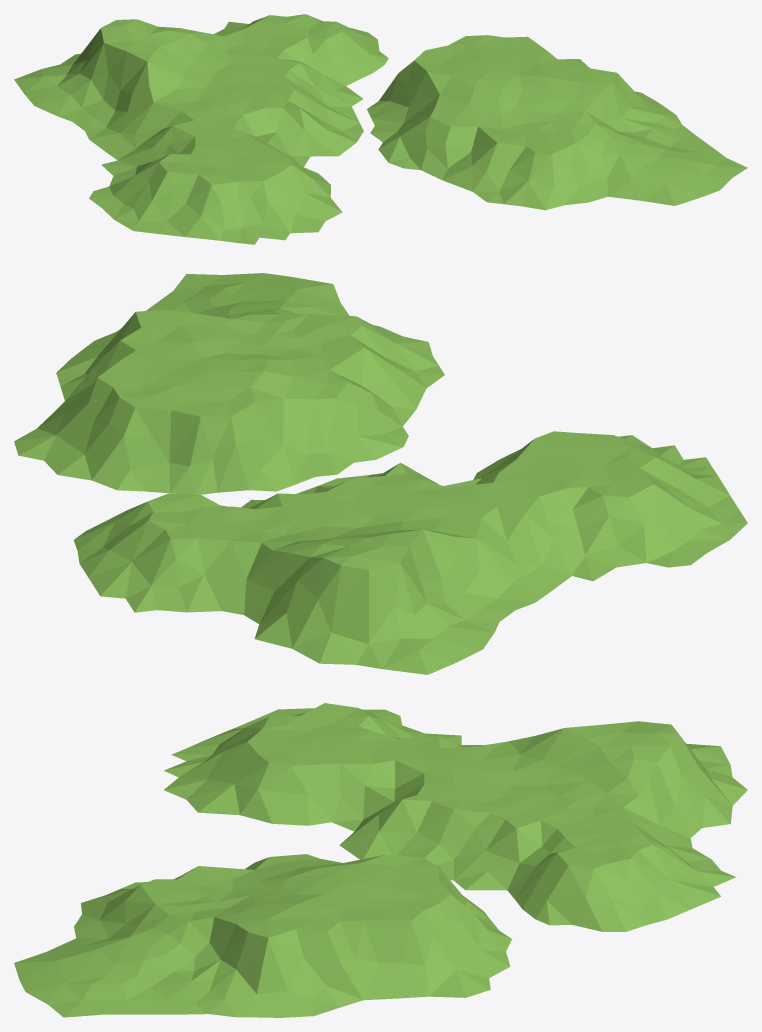
File: MT_Mountain_L_c_10_LOD.fbx
3 renders of one model, top to bottom at view 1: azimuth 30°, elevation 25°; view 2: azimuth 150°, elevation 25°; view 3: azimuth 270°, elevation 25°, orthographic. The views are drawn at different scales.
Visible parts, largest first — view 1: MT_Mountain_L_c_10_LOD0; view 2: MT_Mountain_L_c_10_LOD0; view 3: MT_Mountain_L_c_10_LOD0.
Part boxes in pixels (bbox=[...]): MT_Mountain_L_c_10_LOD0: bbox=[14, 14, 747, 244]; MT_Mountain_L_c_10_LOD0: bbox=[14, 273, 747, 674]; MT_Mountain_L_c_10_LOD0: bbox=[14, 703, 747, 1017].
Size of what is drawn, in the model's own units: 7772 by 756 by 7775.
